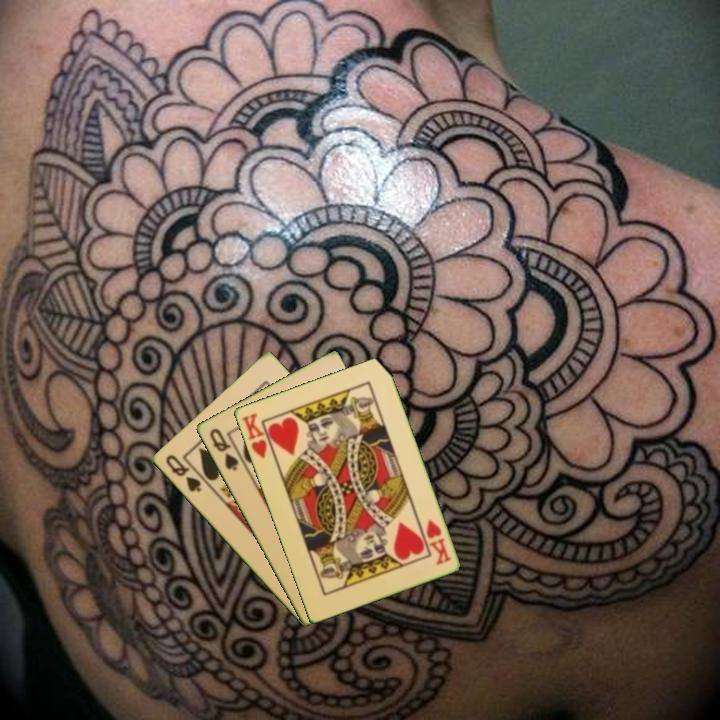Kh: (238, 409, 277, 461), (422, 516, 454, 568)
Qs: (161, 451, 204, 495), (205, 424, 241, 474)
